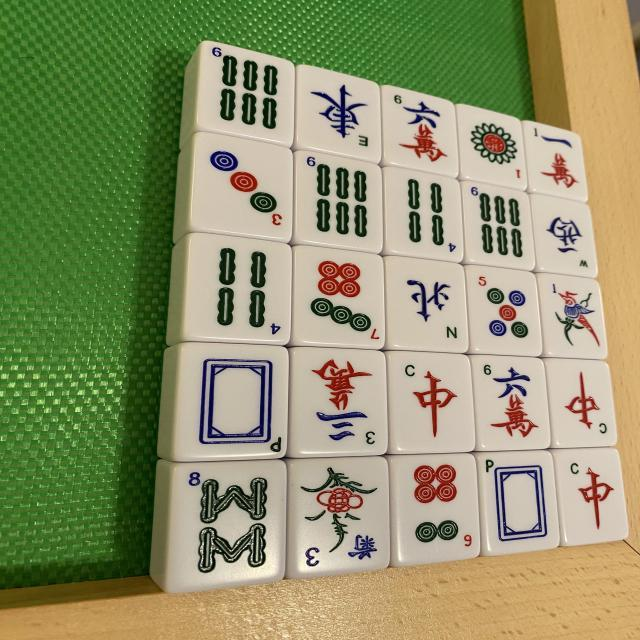bf3: (284, 452, 388, 573)
hdr: (388, 350, 474, 454), (554, 449, 626, 546), (544, 361, 616, 452)
hdw: (181, 344, 292, 462), (482, 455, 563, 560)
hwe: (298, 70, 380, 146)
hwn: (386, 256, 468, 354)
hww: (534, 198, 596, 278)
sb1: (538, 274, 604, 362)
sb4: (184, 236, 290, 344), (384, 168, 462, 264)
sb6: (201, 38, 298, 138), (293, 148, 380, 248), (463, 189, 530, 269)
sb8: (158, 464, 292, 598)
sc1: (529, 130, 580, 192)
sc3: (290, 347, 390, 458)
sc6: (472, 352, 550, 450), (382, 89, 458, 180)
sd1: (460, 110, 526, 188)
sd3: (201, 144, 286, 230)
sd5: (466, 266, 542, 356)
sd6: (390, 454, 478, 564)
sd7: (293, 245, 382, 348)
